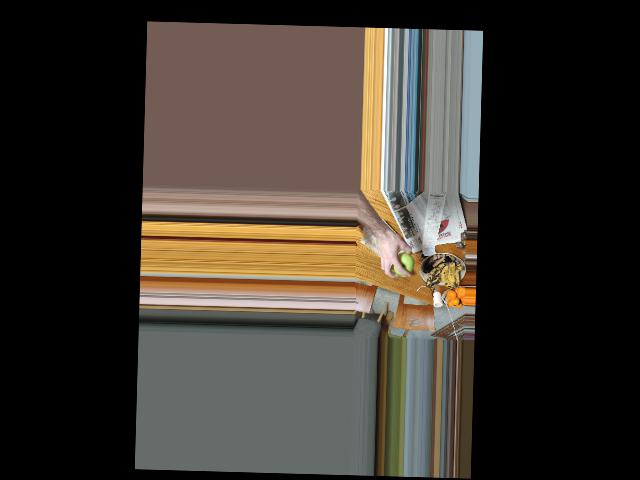apple: (392, 251, 413, 274)
